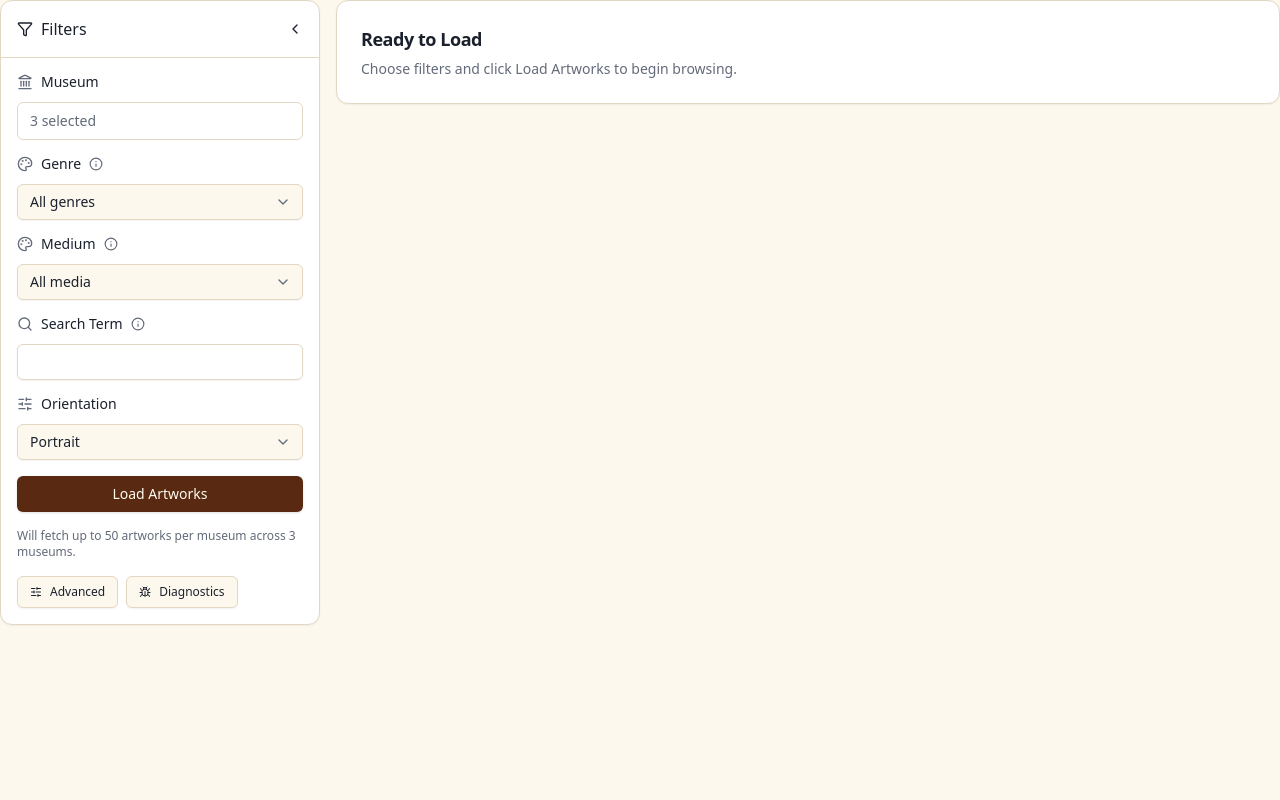
Test: AppPage › clears date fields through integrated clear controls
This screenshot has width=1280, height=800.
Expected: the button "Load Artworks" is shown, [17,476,303,512]
Click the button "Advanced" at (68, 592), box [17,576,118,608]
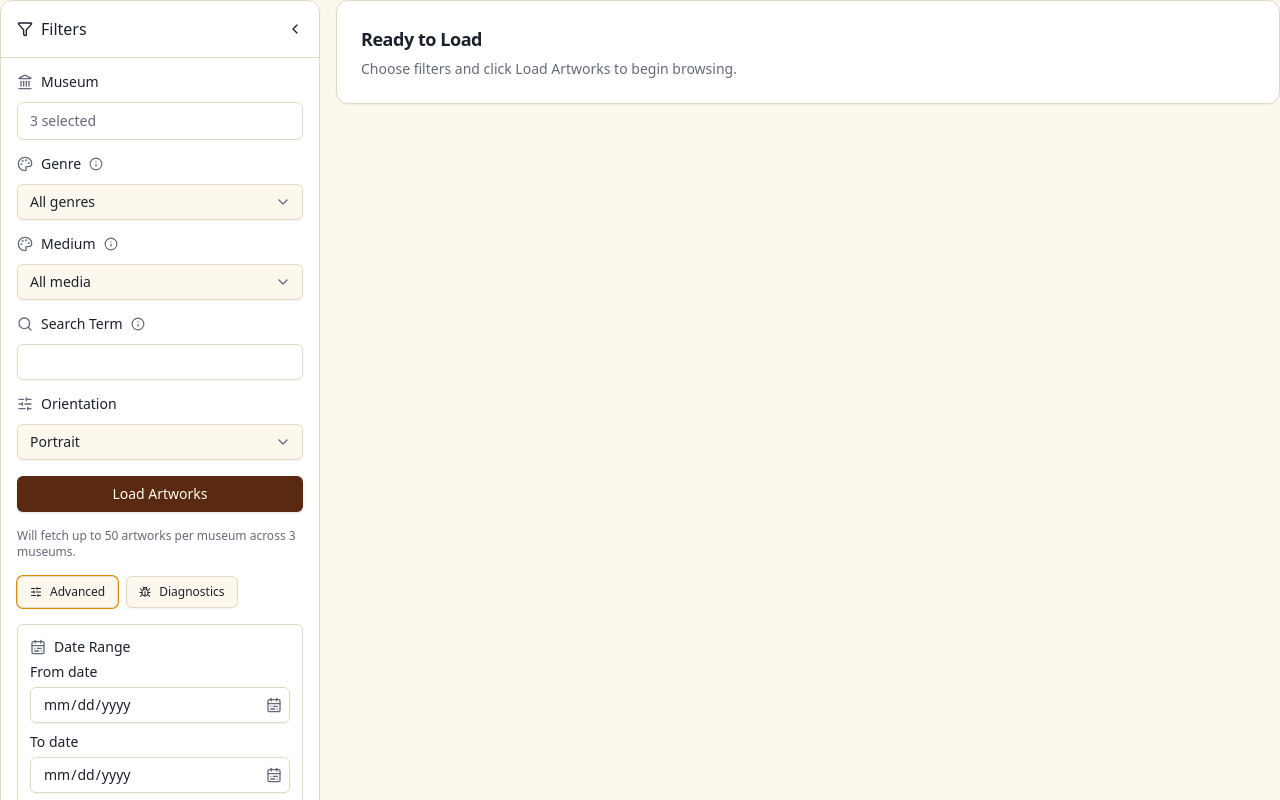
Type "2024-01-10" into the date field labelled "From date" at (160, 705), box [30,687,290,723]
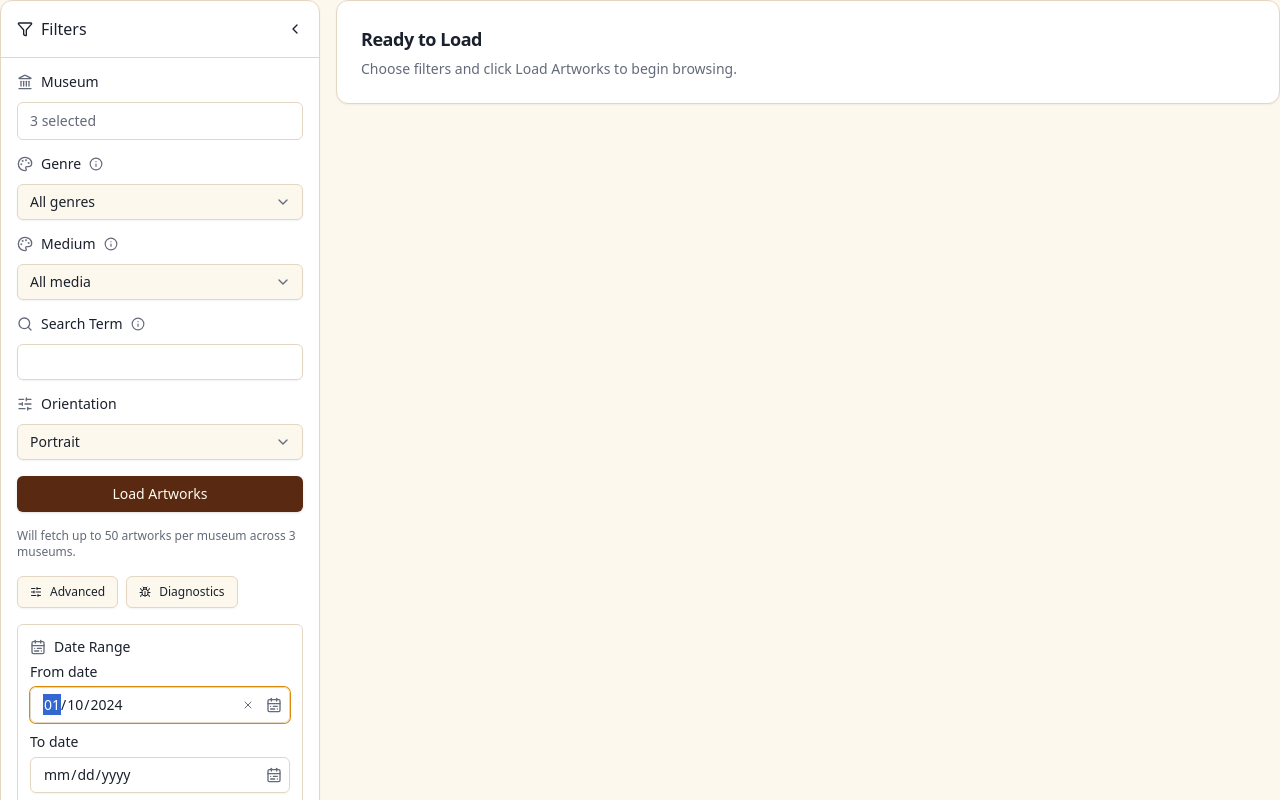
Type "2024-12-31" into the date field labelled "To date" at (160, 775), box [30,757,290,793]
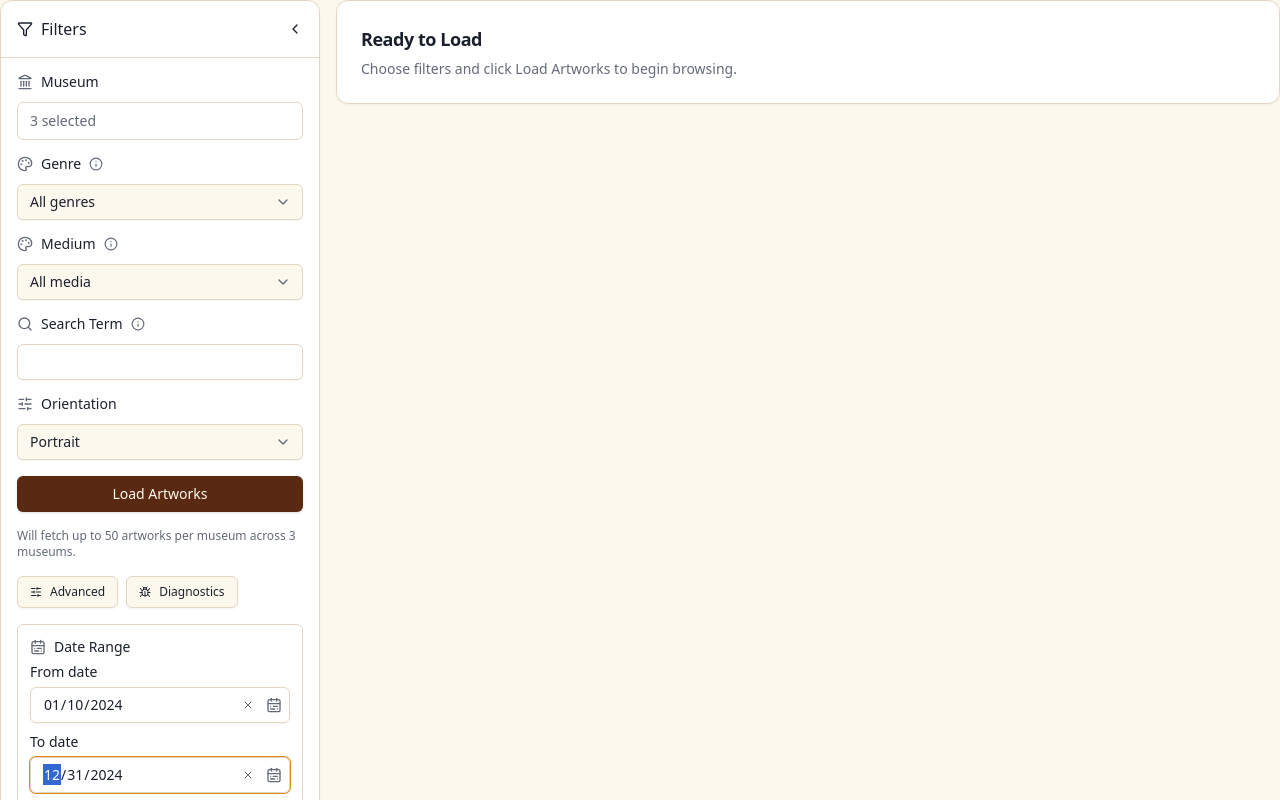
Click the button named "Clear from date" at (248, 705), box [238,695,258,715]
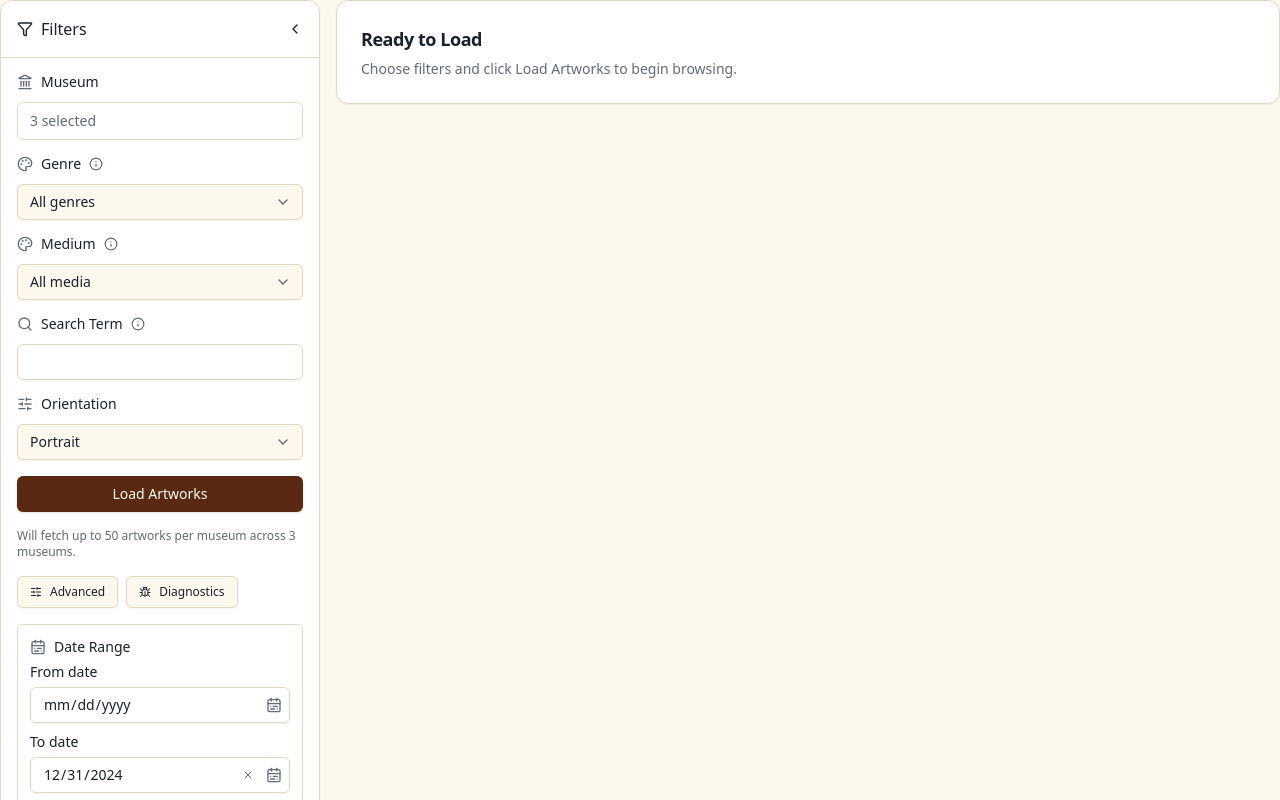
Click the button named "Clear to date" at (248, 775), box [238,765,258,785]
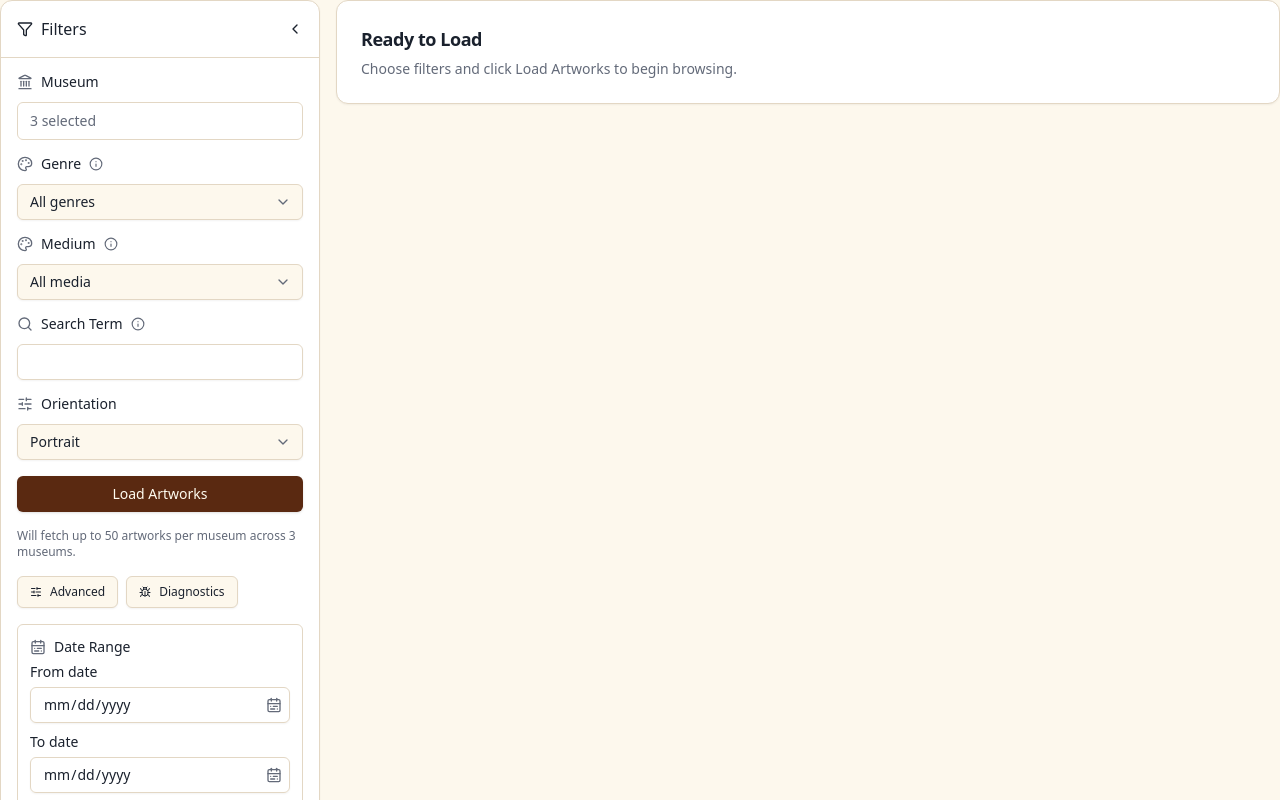
Expected: the date field labelled "From date" is empty, [30,687,290,723]
Expected: the date field labelled "To date" is empty, [30,757,290,793]
